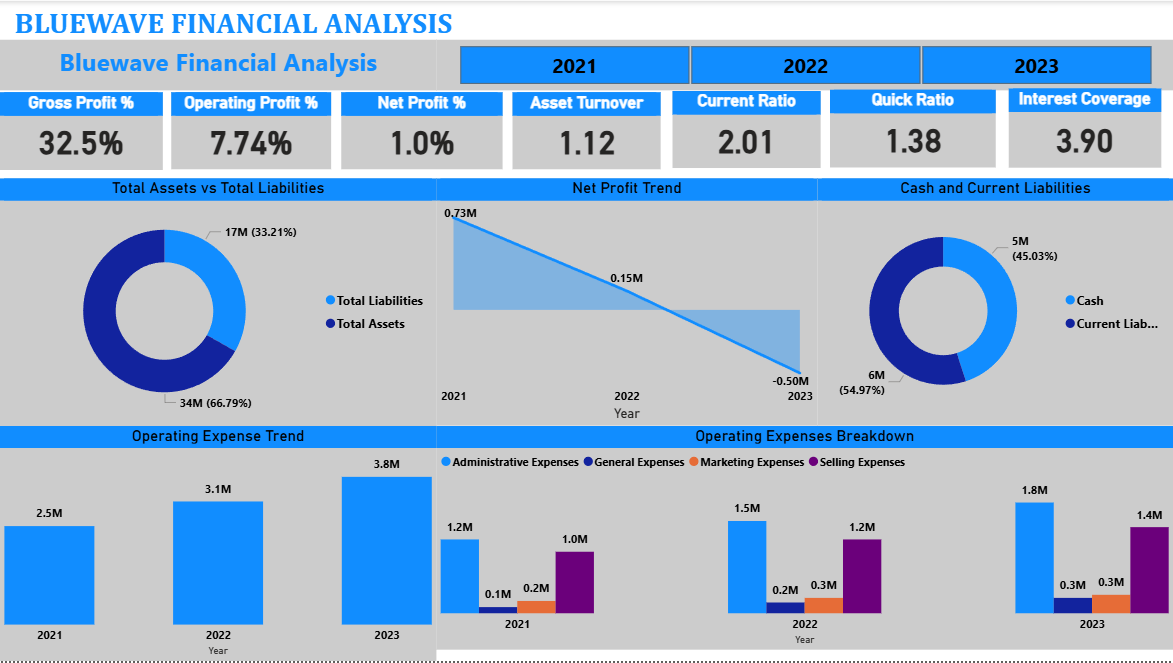

This screenshot's page, from the dashboard's own definition file:
{"tool":"powerbi","page":{"name":"Other Key Performance Metrics","canvas":[1280,720],"ordinal":1},"visuals":[{"type":"textbox","box":[11,0,680.6,53.5],"z":0},{"type":"card","title":"Operating Profit %","fields":{"Values":["Ratios.Operating Margin"]},"box":[186.6,100.2,174.3,83.7],"z":2000},{"type":"card","title":"Net Profit %","fields":{"Values":["Ratios.Net Profit Margin"]},"box":[371.9,100.2,175.6,83.7],"z":3000},{"type":"textbox","box":[0,42.5,476.2,54.9],"z":4000},{"type":"slicer","fields":{"Values":["Date Table.Year"]},"box":[476.2,42.5,804.1,54.9],"z":5000},{"type":"card","title":"Asset Turnover","fields":{"Values":["Ratios.Asset Turnover"]},"box":[558.5,100.2,161.9,83.7],"z":6000},{"type":"card","title":"Current Ratio","fields":{"Values":["Ratios.Current Ratio"]},"box":[734.1,98.8,161.9,83.7],"z":7000},{"type":"card","title":"Quick Ratio","fields":{"Values":["Ratios.Quick Ratio"]},"box":[905.7,97.4,181.1,85.1],"z":8000},{"type":"card","title":"Interest Coverage","fields":{"Values":["Ratios.Interest Ratio"]},"box":[1100.5,96.1,166,86.4],"z":9000},{"type":"donutChart","title":"Total Assets vs Total Liabilities","fields":{"Y":["BS Calculated Measures.Total Liabilities","BS Calculated Measures.Total Assets"]},"box":[0,193.5,476.2,270.3],"z":10000},{"type":"columnChart","title":"Operating Expense Trend","fields":{"Category":["Date Table.Year"],"Y":["IS Calculated Measures.Total Operating Expenses"]},"box":[0,463.8,476.2,256.6],"z":11000},{"type":"clusteredColumnChart","title":"Operating Expenses Breakdown","fields":{"Category":["Date Table.Year"],"Y":["IS Calculated Measures.Administrative Expenses","IS Calculated Measures.General Expenses","IS Calculated Measures.Marketing Expenses","IS Calculated Measures.Selling Expenses"]},"box":[476.2,463.8,804.1,244.3],"z":12000},{"type":"lineChart","title":"Net Profit Trend","fields":{"Y":["IS Calculated Measures.Net Profit"],"Category":["Date Table.Year"]},"box":[475.8,193.6,415.9,270],"z":13000},{"type":"donutChart","fields":{"Y":["BS Calculated Measures.Cash","BS Calculated Measures.Current Liabilities"]},"box":[891.7,193.6,388.6,270],"z":14000},{"type":"card","title":"Gross Profit %","fields":{"Values":["Ratios.Gross Margin"]},"box":[0,99.5,177.2,84.5],"z":14001}]}

Visuals, with their boxes in screenshot pixels (x1, y1, x2, y2), scaled from the page's 1280x720 canvas onto the 1173x663 screenshot:
textbox: select_region(10, 0, 634, 49)
"Operating Profit %" card: select_region(171, 92, 331, 169)
"Net Profit %" card: select_region(341, 92, 502, 169)
textbox: select_region(0, 39, 436, 90)
slicer - Date Table.Year: select_region(436, 39, 1172, 90)
"Asset Turnover" card: select_region(512, 92, 660, 169)
"Current Ratio" card: select_region(673, 91, 821, 168)
"Quick Ratio" card: select_region(830, 90, 996, 168)
"Interest Coverage" card: select_region(1009, 88, 1161, 168)
"Total Assets vs Total Liabilities" donutChart: select_region(0, 178, 436, 427)
"Operating Expense Trend" columnChart: select_region(0, 427, 436, 662)
"Operating Expenses Breakdown" clusteredColumnChart: select_region(436, 427, 1172, 652)
"Net Profit Trend" lineChart: select_region(436, 178, 817, 427)
donutChart - BS Calculated Measures.Cash x BS Calculated Measures.Current Liabilities: select_region(817, 178, 1172, 427)
"Gross Profit %" card: select_region(0, 92, 162, 169)
